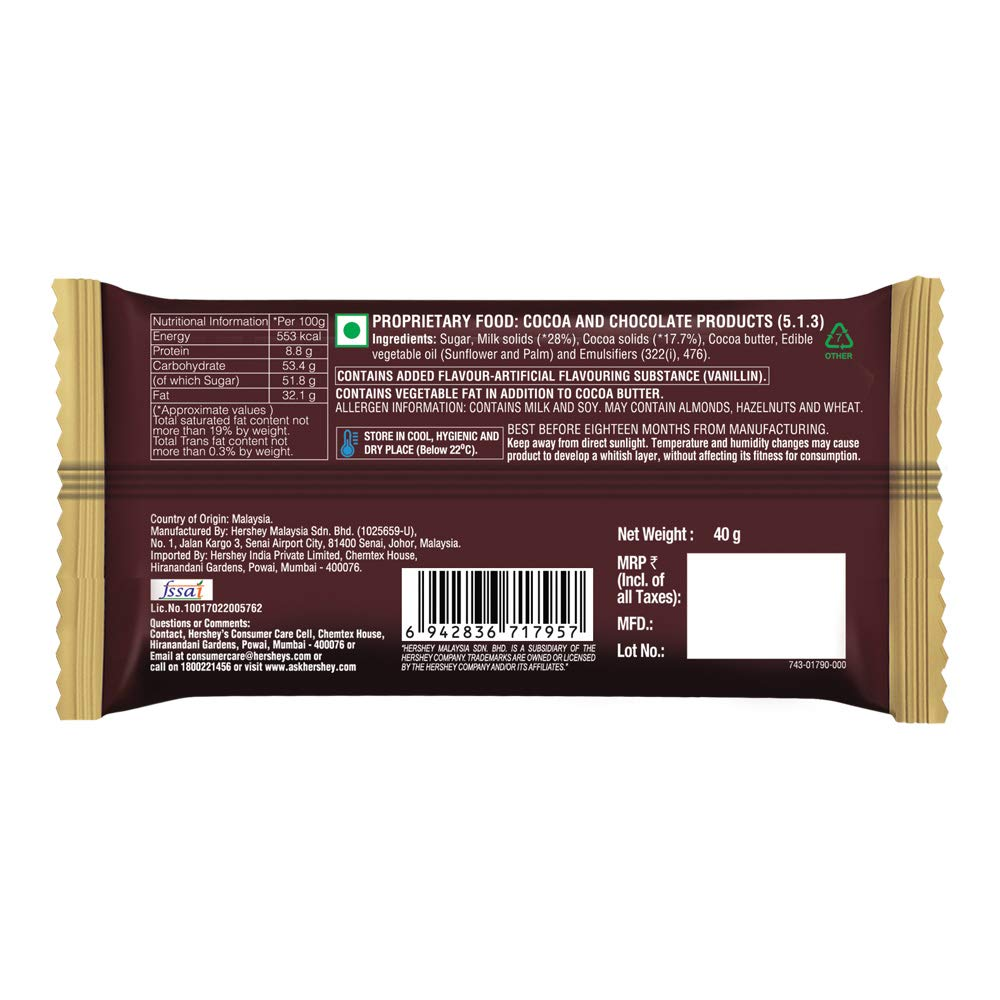Barcode: (415, 568, 590, 641)
